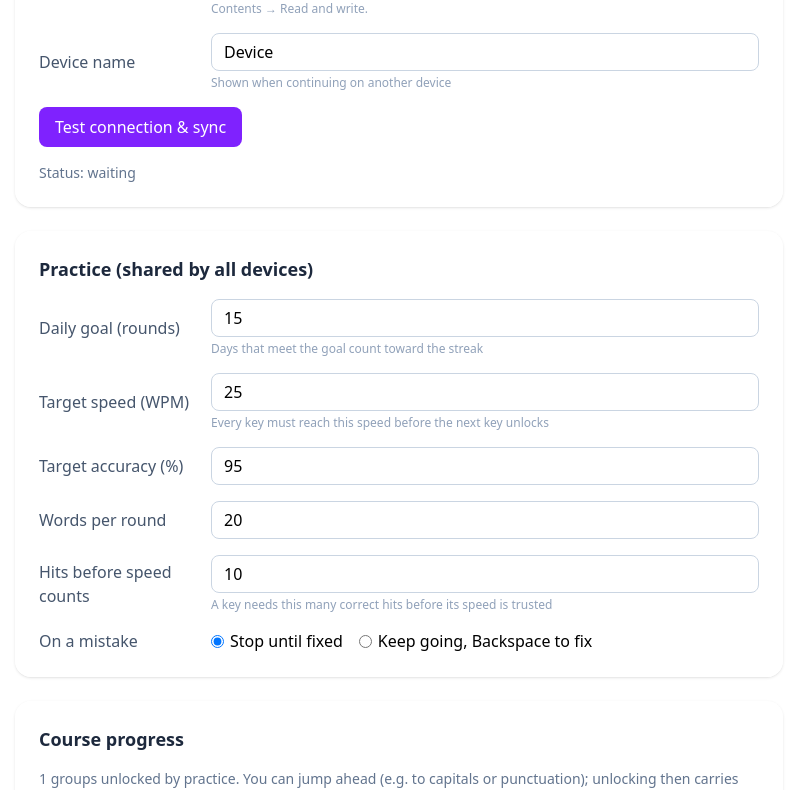
Test: number fields › clamps out-of-range values when leaving the field or pressing Enter
The width and height of the screenshot is (800, 790).
(page scrolled)
Replace the text in the number field labelled "Target speed" with "500" at (485, 392), box [211,373,759,411]
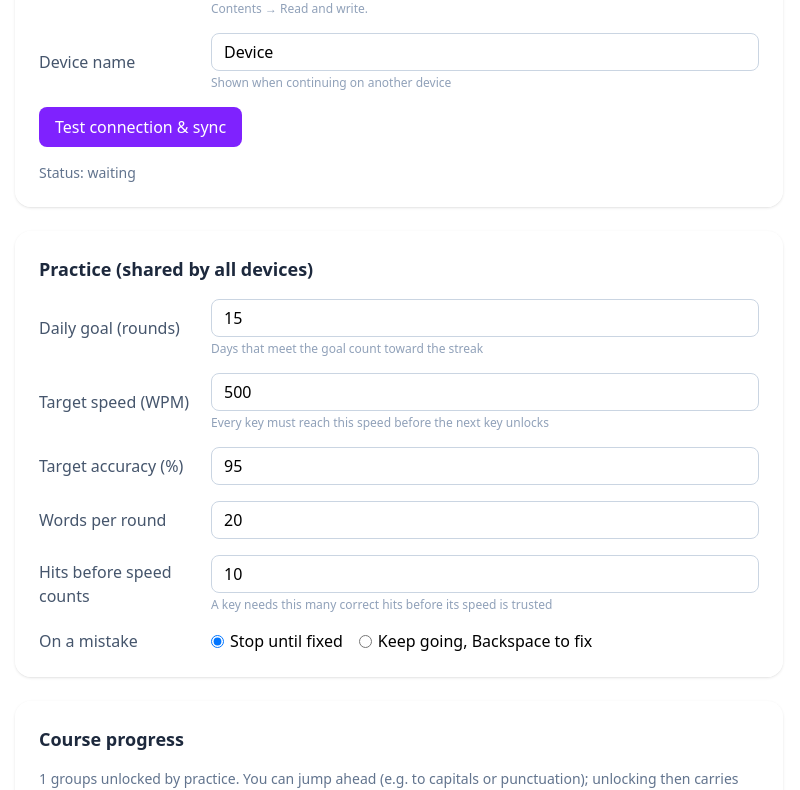
Press Enter in the number field labelled "Target speed", box [211,373,759,411]
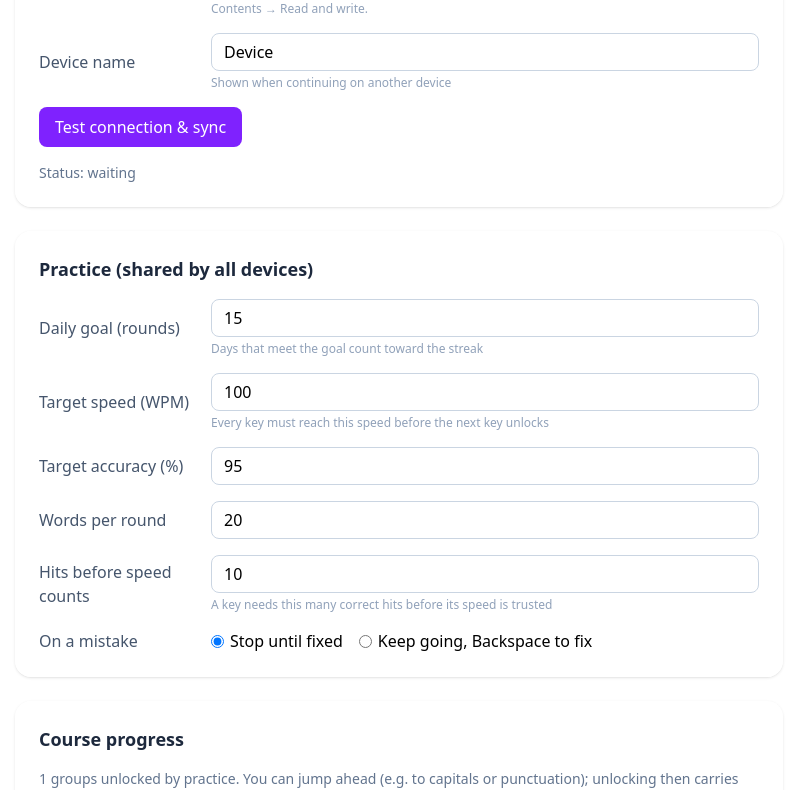
Check: the number field labelled "Target speed" holds "100"
Clear the number field labelled "Target speed" at (485, 392), box [211,373,759,411]
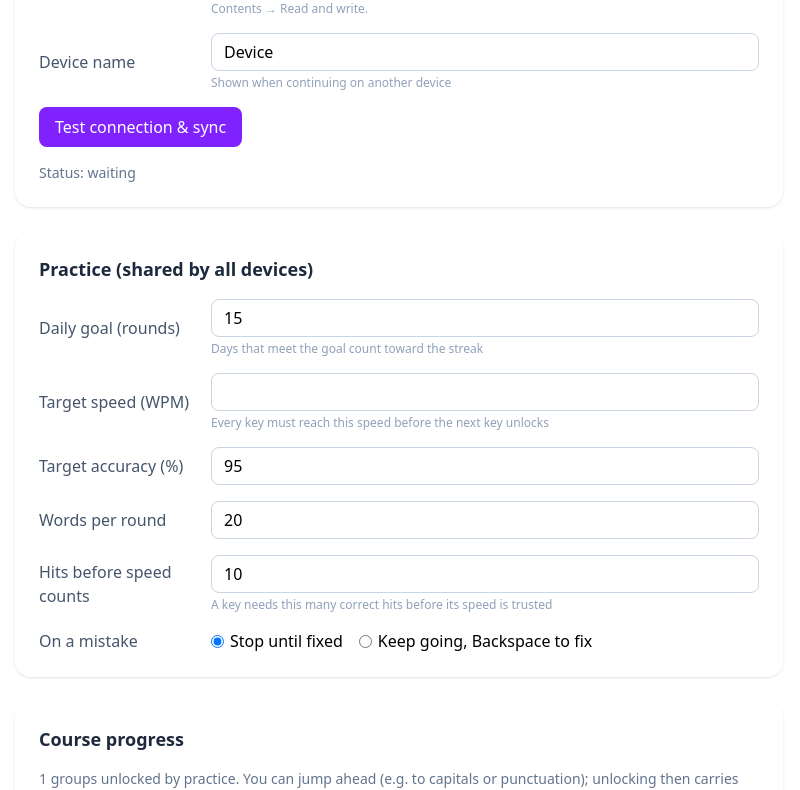
Leave the number field labelled "Target speed", box [211,373,759,411]
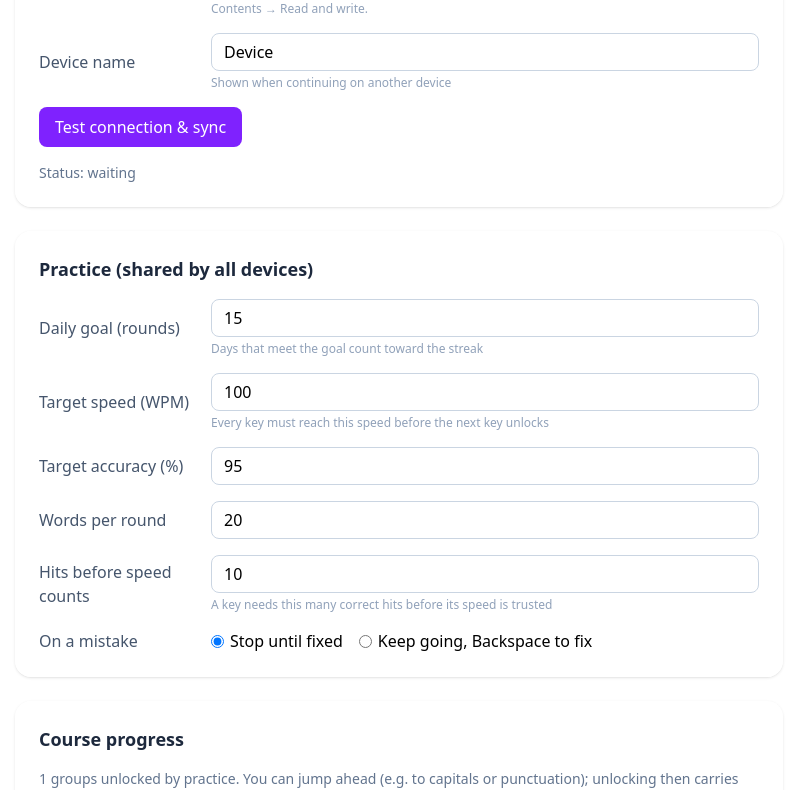
Check: the number field labelled "Target speed" holds "100", box [211,373,759,411]
